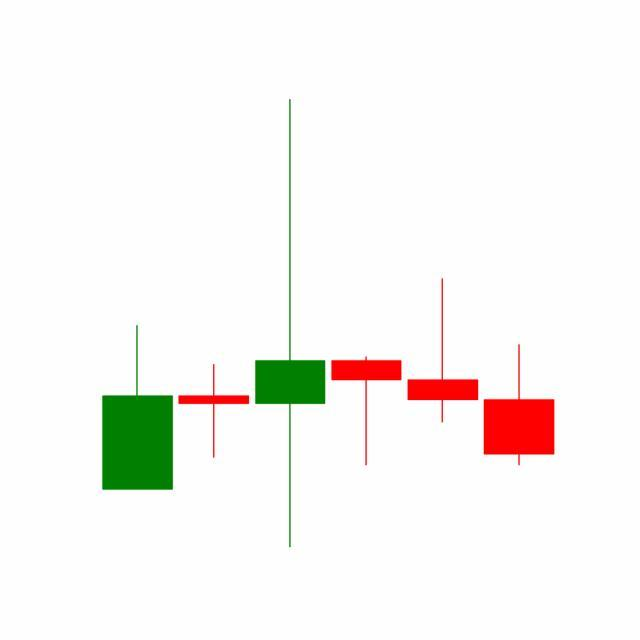Spinning Top: (404, 277, 482, 425)
